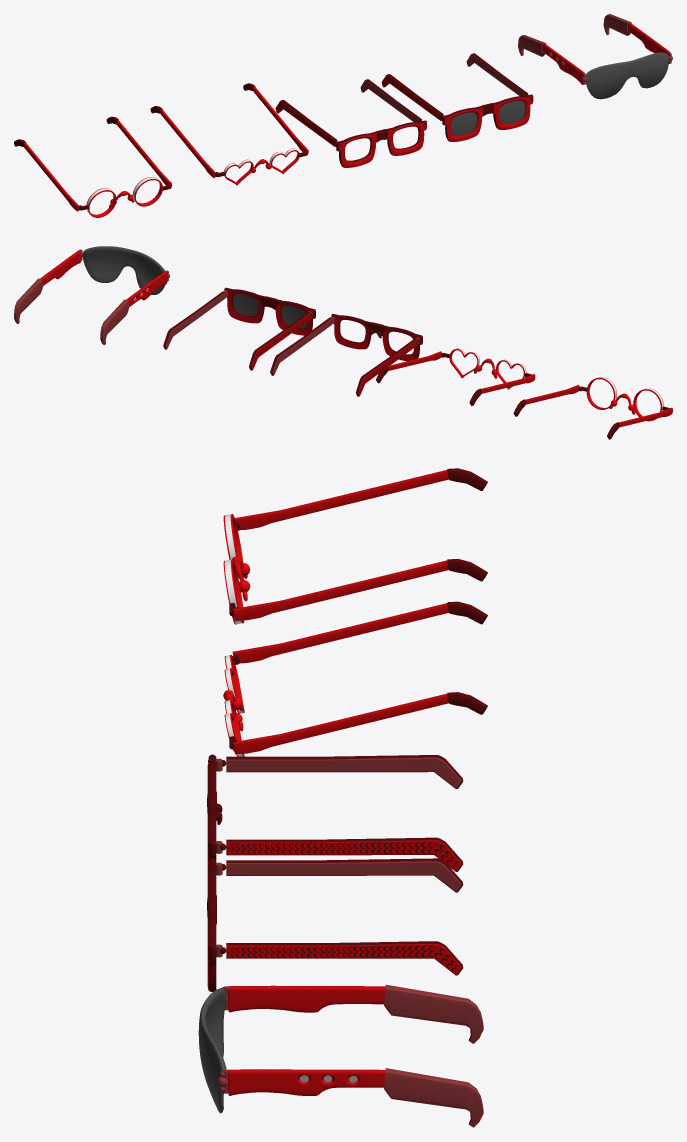
Rendered from OculosFEMSA_QUaseTOdos1.fbx.
3 renders of one model, top to bottom at view 1: azimuth 30°, elevation 25°; view 2: azimuth 150°, elevation 25°; view 3: azimuth 270°, elevation 25°, orthographic. The views are drawn at different scales.
Visible parts, largest first — view 1: polySurface44, polySurface53, polySurface74, group7_group6_pCube1, polySurface62, polySurface31, pDisc2, Vidro_Escuro_Mat_Oculos; view 2: polySurface53, polySurface44, polySurface74, polySurface62, group7_group6_pCube1, polySurface31, pDisc2, Vidro_Escuro_Mat_Oculos; view 3: polySurface62, polySurface53, polySurface44, group7_group6_pCube1, polySurface31, polySurface74.
Boxes of the visible parts, <box> form: polySurface44: <box>275,79,426,167</box>; polySurface53: <box>381,53,533,141</box>; polySurface74: <box>586,52,668,99</box>; group7_group6_pCube1: <box>14,116,171,217</box>; polySurface62: <box>518,14,672,84</box>; polySurface31: <box>150,83,308,185</box>; pDisc2: <box>499,100,525,123</box>; Vidro_Escuro_Mat_Oculos: <box>451,112,477,135</box>; polySurface53: <box>163,287,315,370</box>; polySurface44: <box>270,313,422,396</box>; polySurface74: <box>82,246,165,294</box>; polySurface62: <box>14,249,169,345</box>; group7_group6_pCube1: <box>513,377,672,439</box>; polySurface31: <box>376,348,535,405</box>; pDisc2: <box>233,294,258,315</box>; Vidro_Escuro_Mat_Oculos: <box>281,305,306,328</box>; polySurface62: <box>217,984,483,1127</box>; polySurface53: <box>207,858,463,991</box>; polySurface44: <box>207,754,463,871</box>; group7_group6_pCube1: <box>223,468,487,624</box>; polySurface31: <box>223,601,487,756</box>; polySurface74: <box>198,988,226,1113</box>.
Bounding box in the file's own units: 116 × 8.96 × 24.43.
Materials: 6 (4 with a texture image).
